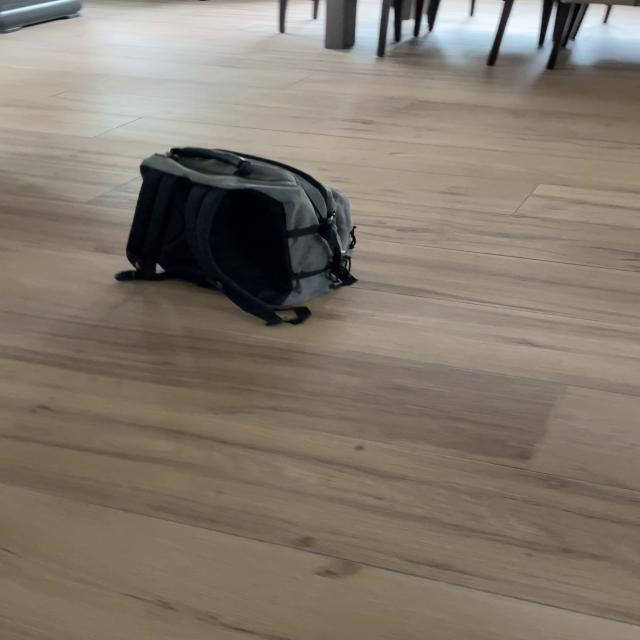backpack: (110, 138, 370, 330)
